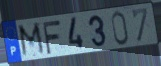0: (110, 10, 130, 47)
3: (87, 14, 109, 49)
4: (68, 15, 87, 52)
7: (131, 7, 149, 44)
F: (41, 18, 62, 56)
M: (17, 21, 48, 59)
